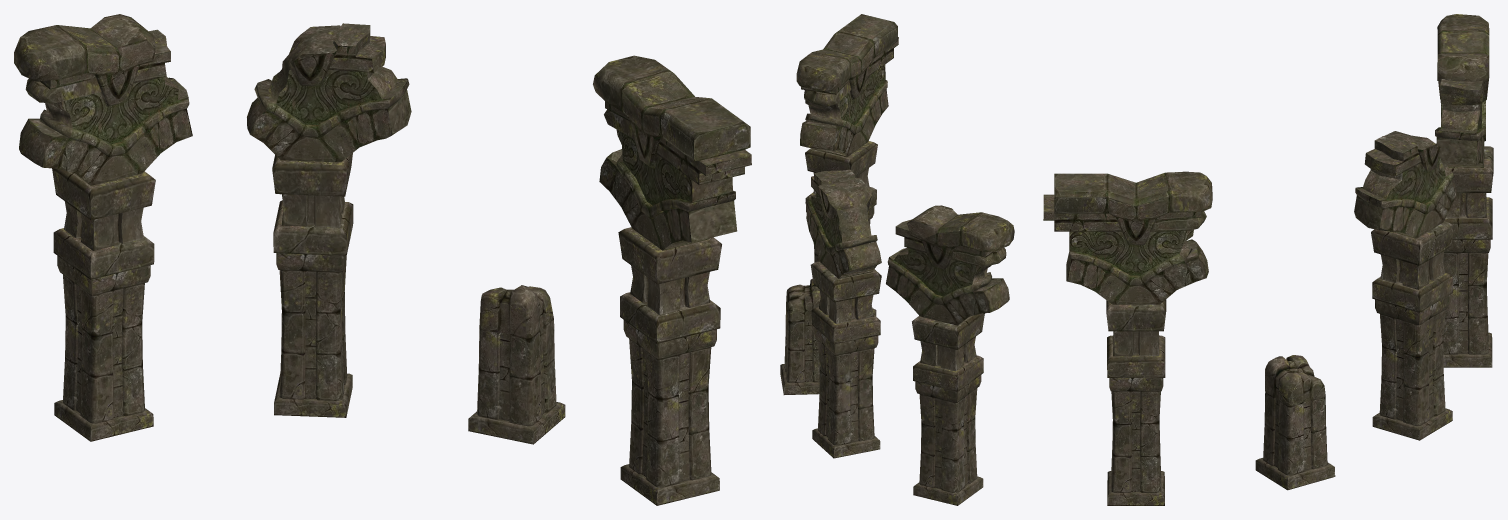
File: Arch_Alley_Rounded_04_c-transformed.glb
3 renders of one model, left to right at view 1: azimuth 30°, elevation 25°; view 2: azimuth 150°, elevation 25°; view 3: azimuth 270°, elevation 25°, orthographic. The views are drawn at different scales.
Parts seen in each view (by area): view 1: default; view 2: default; view 3: default.
Boxes of the visible parts, bbox=[...] form: default: bbox=[14, 14, 751, 505]; default: bbox=[780, 14, 1014, 505]; default: bbox=[1043, 14, 1493, 505].
Size of the model in its own units: 7.96 by 6.3 by 8.25.
2 materials, 2 textured.
